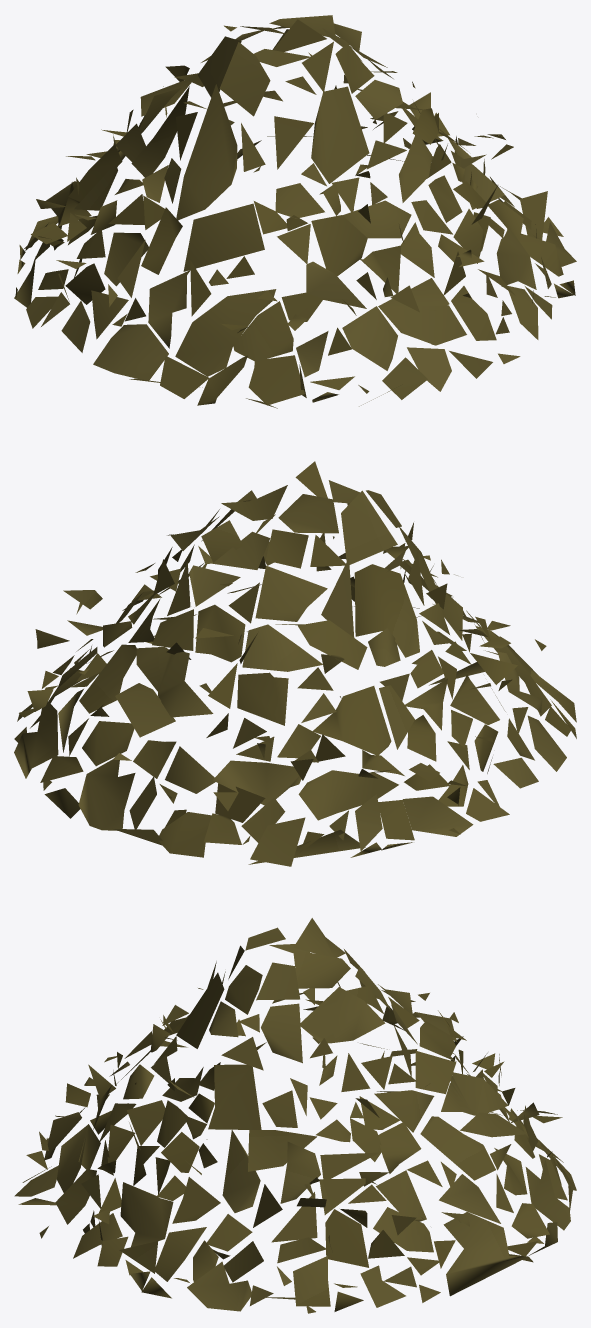
The model's file is hill-far.glb.
3 views of the same model, one above another, from view 1: azimuth 30°, elevation 25°; view 2: azimuth 150°, elevation 25°; view 3: azimuth 270°, elevation 25° (orthographic). The views are drawn at different scales.
Visible parts, largest first — view 1: x-hill; view 2: x-hill; view 3: x-hill.
Boxes of the visible parts, x1,y1,x2,y2 form: x-hill: (14, 15, 576, 408); x-hill: (14, 461, 576, 866); x-hill: (14, 918, 576, 1313).
Bounding box in the file's own units: 0.6756 × 0.3805 × 0.6808.
1 material, 1 textured.
